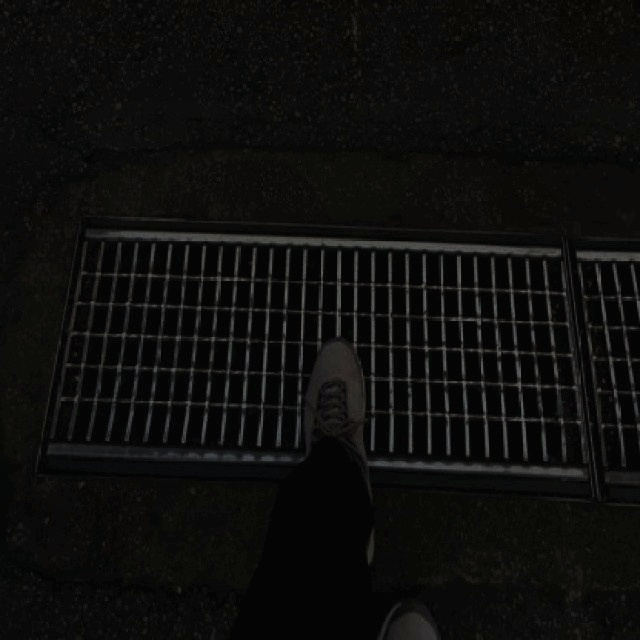Drain Hole: (69, 192, 592, 500)
